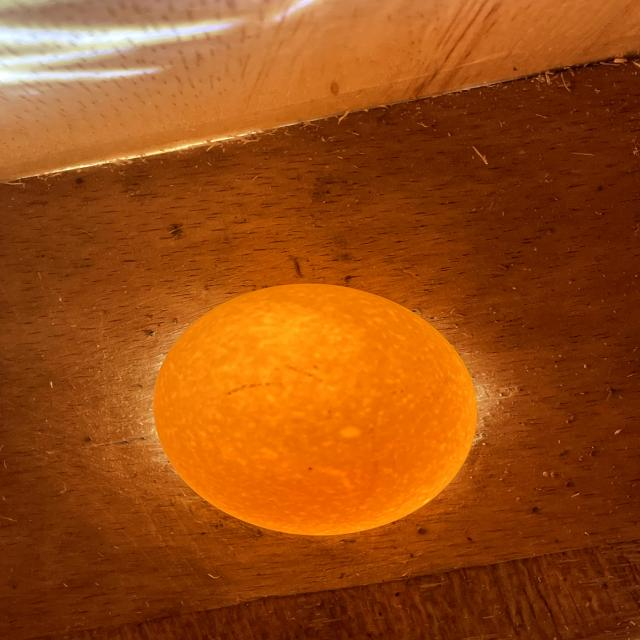infertile: (153, 284, 477, 535)
